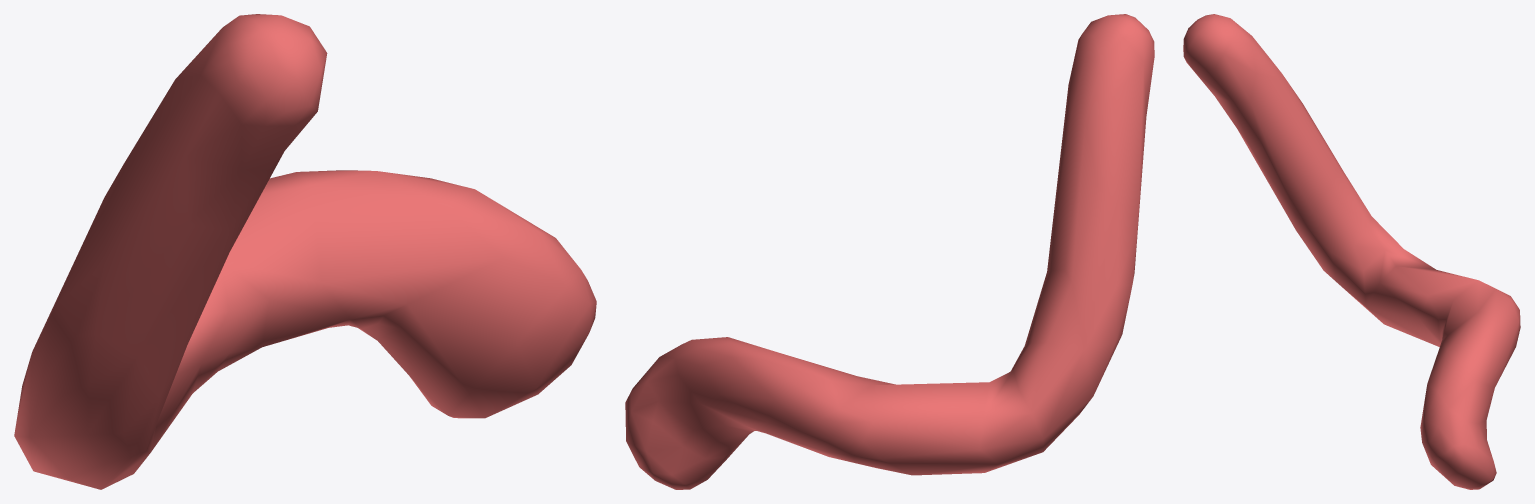
File: Anterior_cerebral_artery.l_grp1.1723.glb
The picture shows the model from 3 angles, left to right: view 1: azimuth 30°, elevation 25°; view 2: azimuth 150°, elevation 25°; view 3: azimuth 270°, elevation 25°; orthographic projection. The views are drawn at different scales.
Visible parts, largest first — view 1: Anterior_cerebral_artery.l_grp1.1723; view 2: Anterior_cerebral_artery.l_grp1.1723; view 3: Anterior_cerebral_artery.l_grp1.1723.
Part boxes in pixels (x1=…): Anterior_cerebral_artery.l_grp1.1723: x1=14, y1=14, x2=596, y2=489; Anterior_cerebral_artery.l_grp1.1723: x1=625, y1=14, x2=1154, y2=489; Anterior_cerebral_artery.l_grp1.1723: x1=1183, y1=14, x2=1520, y2=489.
Bounding box in the file's own units: 0.0139 × 0.0137 × 0.0118.
